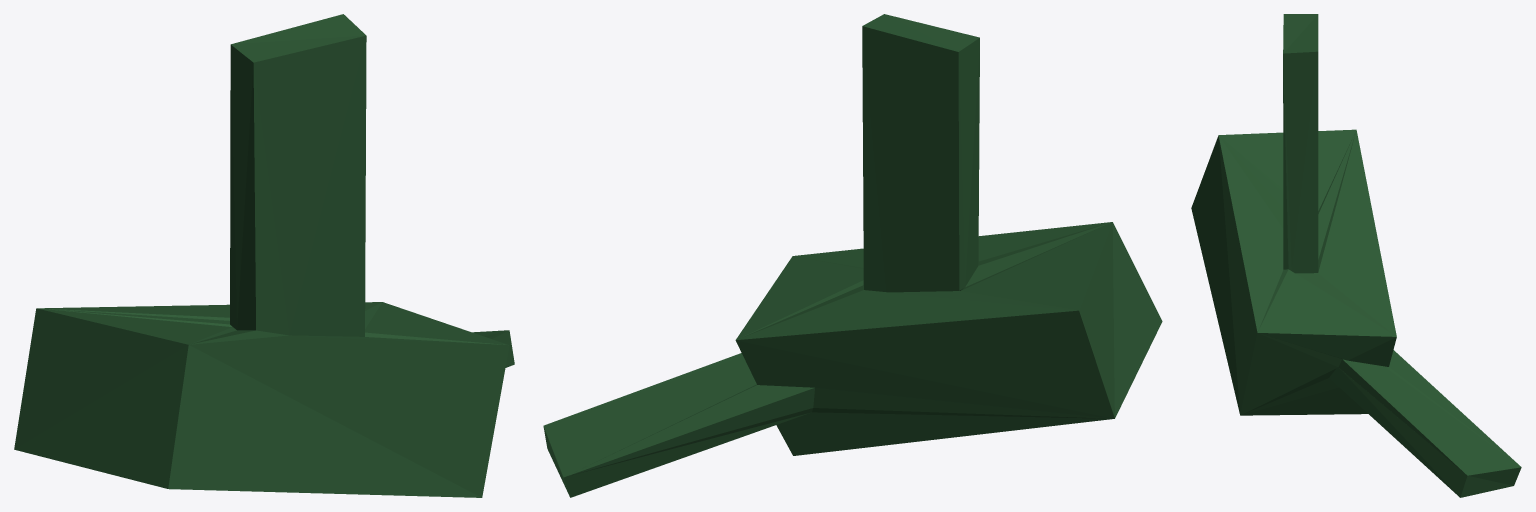
3 renders of one model, left to right at view 1: azimuth 30°, elevation 25°; view 2: azimuth 150°, elevation 25°; view 3: azimuth 270°, elevation 25°, orthographic. The views are drawn at different scales.
Visible parts, largest first — view 1: 160_Cube.669; view 2: 160_Cube.669; view 3: 160_Cube.669.
Boxes of the visible parts, x1,y1,x2,y2 form: 160_Cube.669: (14, 14, 514, 497); 160_Cube.669: (543, 14, 1162, 497); 160_Cube.669: (1191, 14, 1521, 497).
Size of the model in its own units: 18.69 by 15.42 by 12.76.
